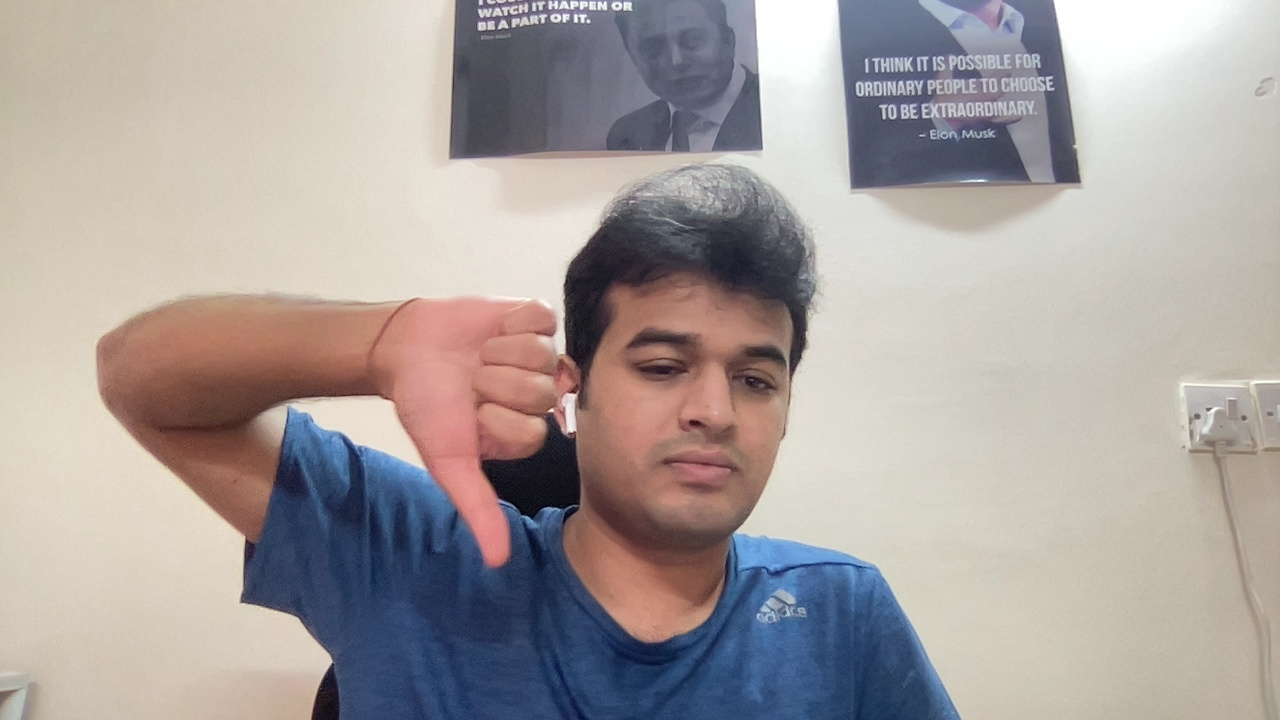down: (391, 290, 570, 577)
